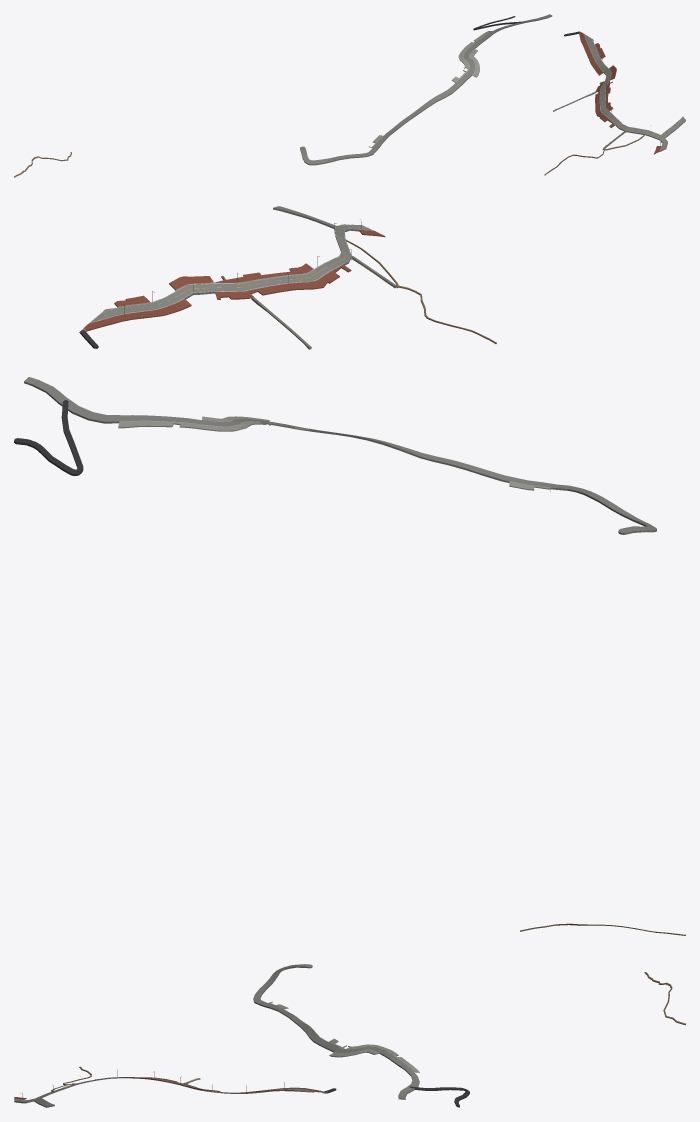
The picture shows the model from 3 angles, top to bottom: view 1: azimuth 30°, elevation 25°; view 2: azimuth 150°, elevation 25°; view 3: azimuth 270°, elevation 25°; orthographic projection. The views are drawn at different scales.
Size of the model in its own units: 587 by 170 by 583.
